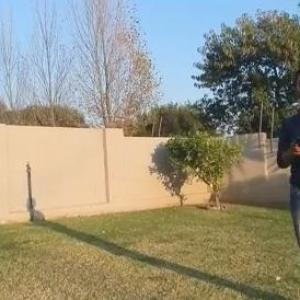follow: (273, 52, 300, 299)
